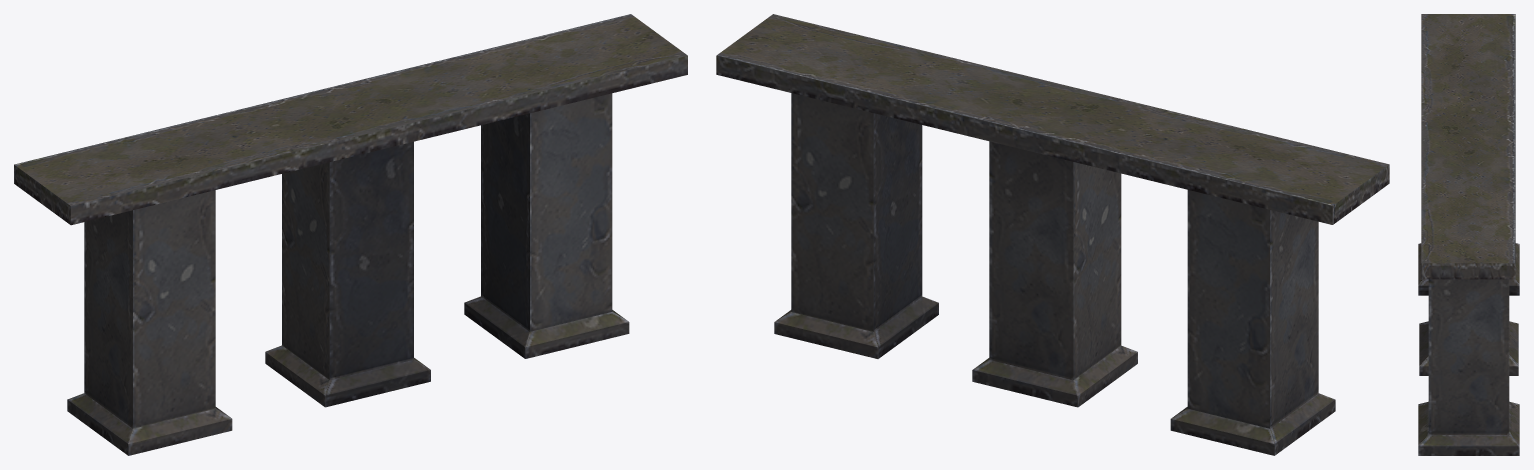
The picture shows the model from 3 angles, left to right: view 1: azimuth 30°, elevation 25°; view 2: azimuth 150°, elevation 25°; view 3: azimuth 270°, elevation 25°; orthographic projection. The views are drawn at different scales.
Visible parts, largest first — view 1: s_0006_fs_03; view 2: s_0006_fs_03; view 3: s_0006_fs_03.
Boxes of the visible parts, x1=… form: s_0006_fs_03: x1=14, y1=14, x2=687, y2=455; s_0006_fs_03: x1=716, y1=14, x2=1389, y2=455; s_0006_fs_03: x1=1418, y1=14, x2=1519, y2=455.
Size of the model in its own units: 119 by 48.25 by 20.37.
